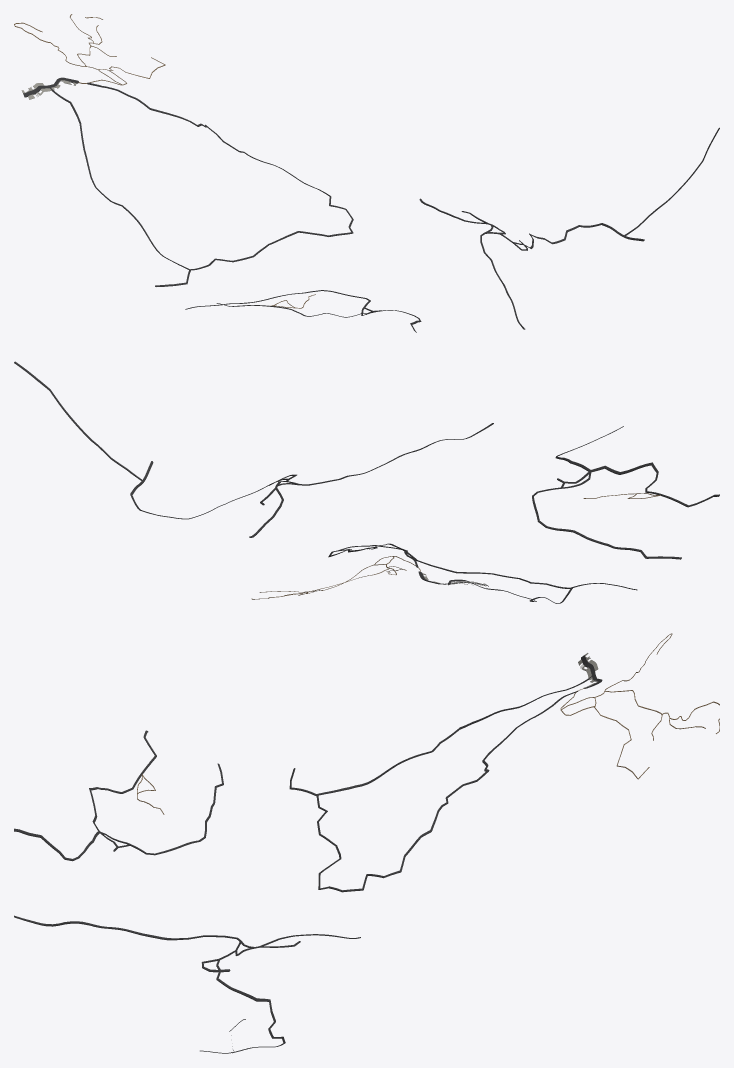
3 views of the same model, one above another, from view 1: azimuth 30°, elevation 25°; view 2: azimuth 150°, elevation 25°; view 3: azimuth 270°, elevation 25° (orthographic). The views are drawn at different scales.
Size of the model in its own units: 1173 by 366 by 1167.
